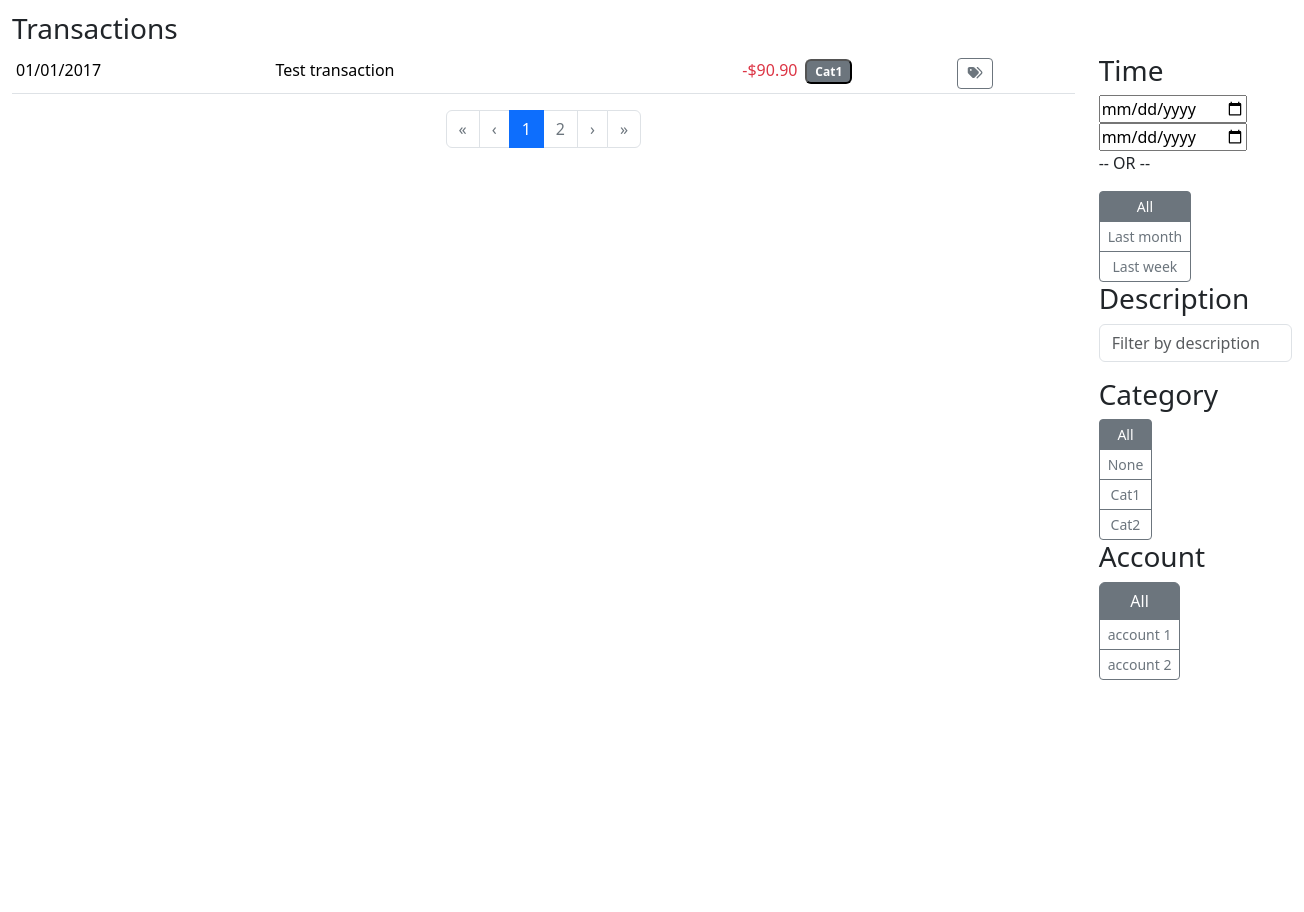
it: should show category dropdown when badge is clicked
Click the button "Cat1" in the row of "01/01/2017" at x=829, y=72, box [806,59,852,84]
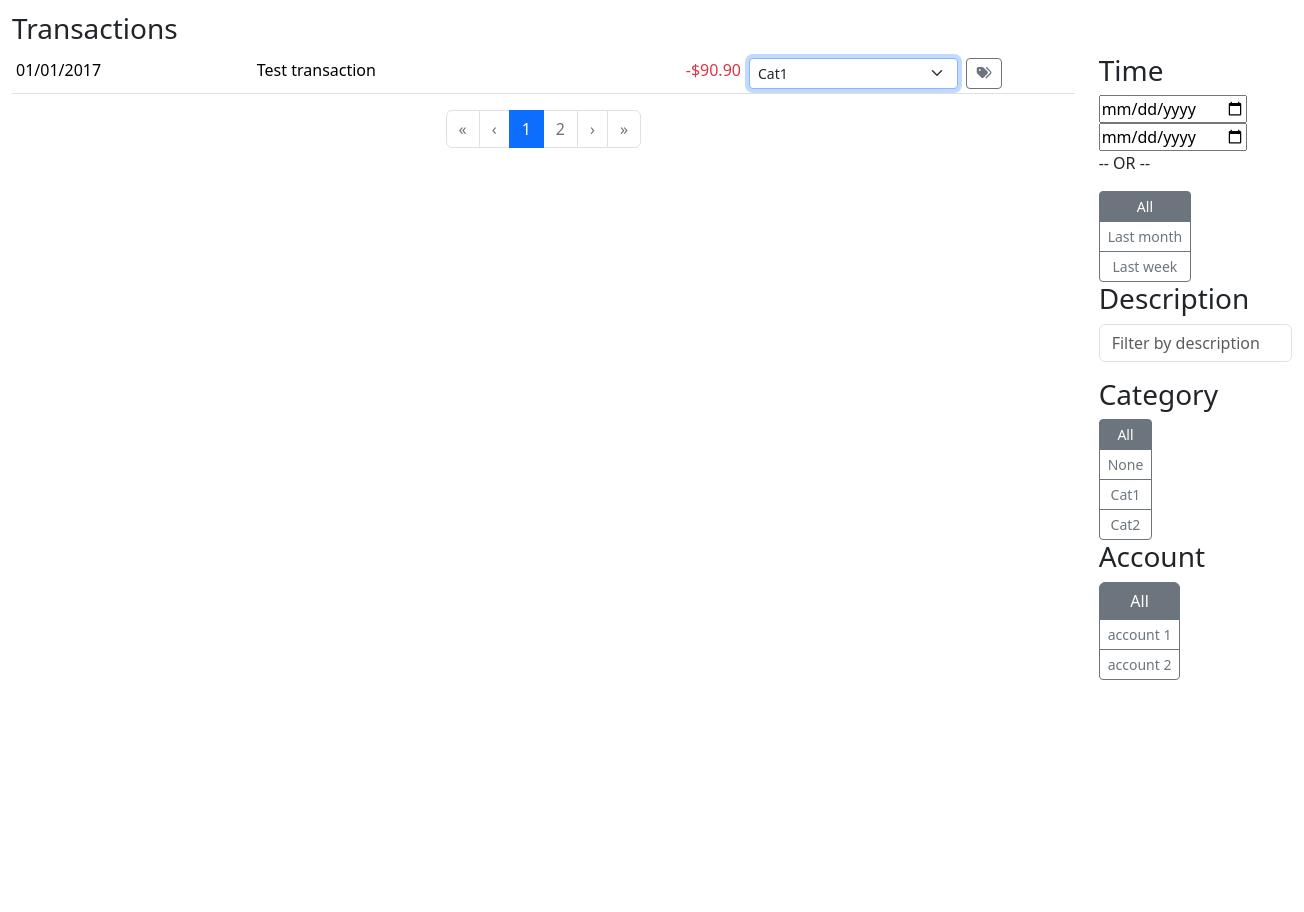
Expected: the dropdown is shown, [749,58,958,89]
